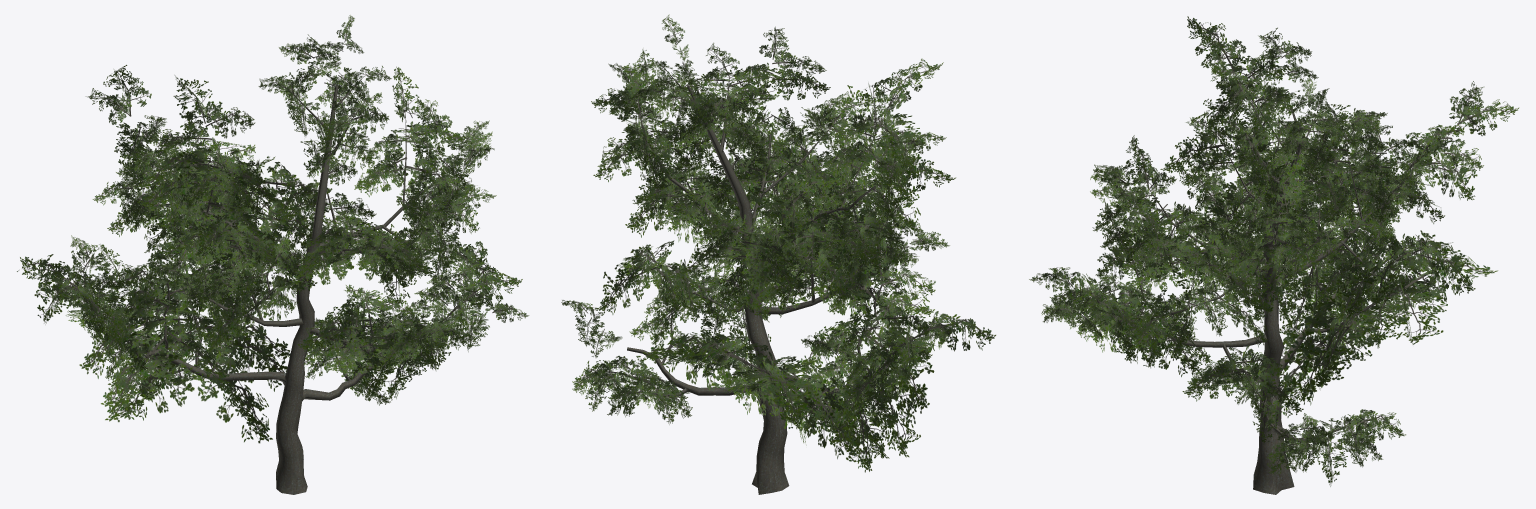
File: oak_big_3.glb
3 views of the same model, side by side, from view 1: azimuth 30°, elevation 25°; view 2: azimuth 150°, elevation 25°; view 3: azimuth 270°, elevation 25° (orthographic). The views are drawn at different scales.
Visible parts, largest first — view 1: Big_oak_tree__003_LOD1_Cluster_Mat_0, Big_oak_tree__003_LOD1_Bark_Mat_0; view 2: Big_oak_tree__003_LOD1_Cluster_Mat_0, Big_oak_tree__003_LOD1_Bark_Mat_0; view 3: Big_oak_tree__003_LOD1_Cluster_Mat_0, Big_oak_tree__003_LOD1_Bark_Mat_0.
Part boxes in pixels (x1,y1,x2,y2): Big_oak_tree__003_LOD1_Cluster_Mat_0: (17, 15, 529, 443); Big_oak_tree__003_LOD1_Bark_Mat_0: (114, 76, 463, 494); Big_oak_tree__003_LOD1_Cluster_Mat_0: (561, 14, 995, 472); Big_oak_tree__003_LOD1_Bark_Mat_0: (627, 70, 887, 494); Big_oak_tree__003_LOD1_Cluster_Mat_0: (1029, 16, 1518, 486); Big_oak_tree__003_LOD1_Bark_Mat_0: (1096, 79, 1412, 494).
Size of the model in its own units: 19.08 by 19.21 by 19.1.
2 materials, 2 textured.
